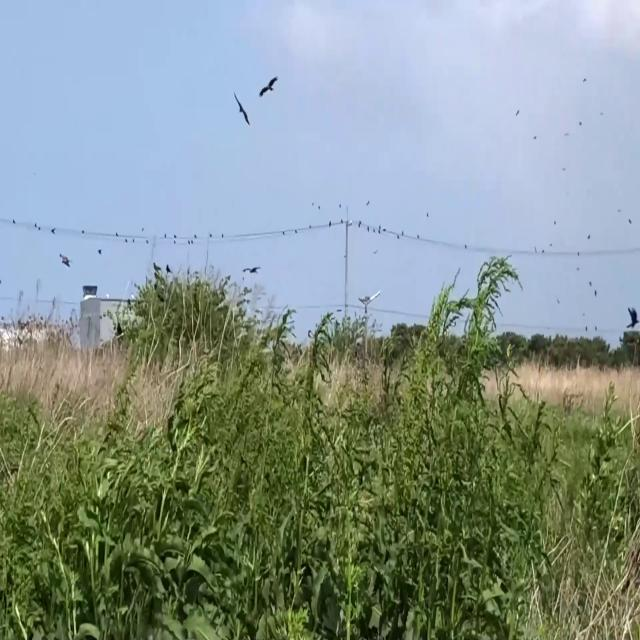bird: (258, 62, 279, 111), (233, 80, 251, 137), (627, 296, 639, 333), (60, 246, 72, 276)
